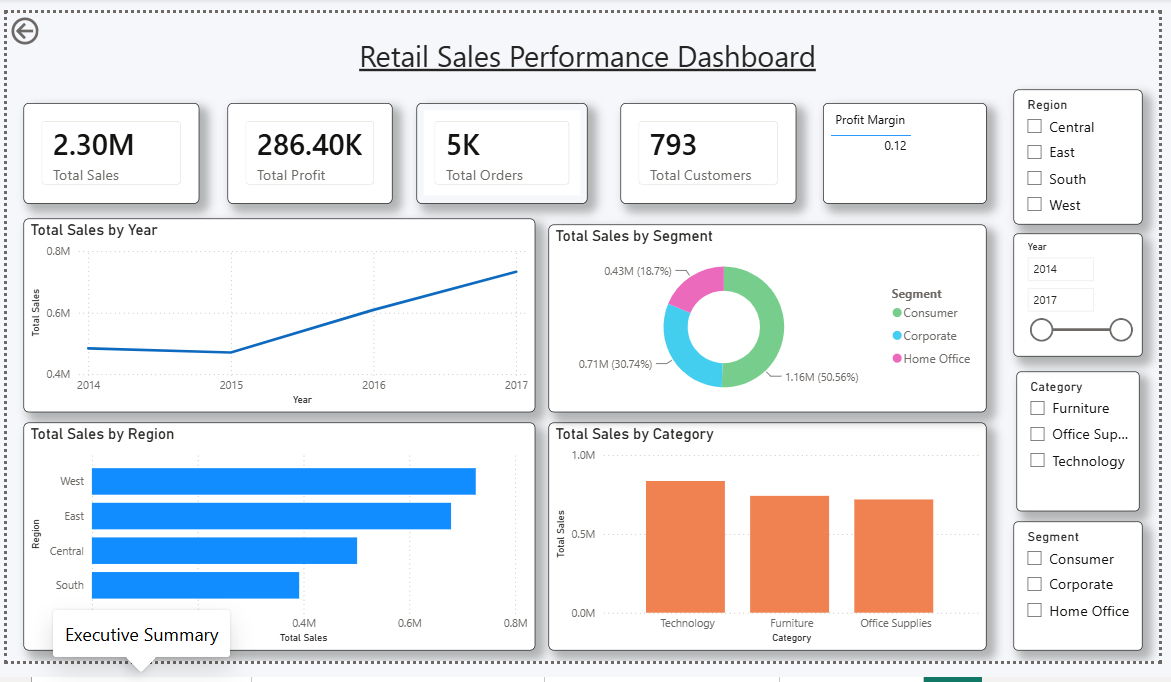

Layout of this report page (visuals, bound fields, positions):
{"tool":"powerbi","page":{"name":"Executive Summary","canvas":[1280,720],"ordinal":0},"visuals":[{"type":"cardVisual","fields":{"Data":["Orders.Total Sales"]},"box":[18.3,100,195,111.7],"z":0},{"type":"cardVisual","fields":{"Data":["Orders.Total Profit"]},"box":[245,100,183.3,111.7],"z":1000},{"type":"cardVisual","fields":{"Data":["Orders.Total Orders"]},"box":[455,100,190,111.7],"z":2000},{"type":"cardVisual","fields":{"Data":["Orders.Total Customers"]},"box":[681.7,100,195,111.7],"z":3000},{"type":"slicer","fields":{"Values":["Orders.Region"]},"box":[1118.3,85,143.3,150],"z":4000},{"type":"tableEx","fields":{"Values":["Orders.Profit Margin"]},"box":[906.7,100,181.7,111.7],"z":5000},{"type":"actionButton","box":[0,0,100,40],"z":6000},{"type":"lineChart","fields":{"Y":["Orders.Total Sales"],"Category":["Calender.Year"]},"box":[18.3,228.3,568.3,215],"z":7000},{"type":"clusteredBarChart","fields":{"Y":["Orders.Total Sales"],"Category":["Orders.Region"]},"box":[18.3,455,568.3,253.3],"z":8000},{"type":"clusteredColumnChart","fields":{"Y":["Orders.Total Sales"],"Category":["Orders.Category"]},"box":[601.7,455,486.7,253.3],"z":9000},{"type":"donutChart","fields":{"Category":["Orders.Segment"],"Y":["Orders.Total Sales"]},"box":[601.7,235,486.7,208.3],"z":10000},{"type":"slicer","fields":{"Values":["Orders.Category"]},"box":[1121.7,398.3,136.7,155],"z":11000},{"type":"slicer","fields":{"Values":["Orders.Segment"]},"box":[1118.3,565,143.3,143.3],"z":12000},{"type":"slicer","fields":{"Values":["Calender.Year"]},"box":[1118.3,245,143.3,136.7],"z":13000},{"type":"textbox","box":[35,20,1220,58.3],"z":14000}]}

Visuals, with their boxes on the page's 1280x720 design canvas (x1, y1, x2, y2). These are canvas units, not pixel positions in the 1171x682 screenshot, which may show the page scaled, cropped or inside an application window:
cardVisual - Orders.Total Sales: <box>18,100,213,212</box>
cardVisual - Orders.Total Profit: <box>245,100,428,212</box>
cardVisual - Orders.Total Orders: <box>455,100,645,212</box>
cardVisual - Orders.Total Customers: <box>682,100,877,212</box>
slicer - Orders.Region: <box>1118,85,1262,235</box>
tableEx - Orders.Profit Margin: <box>907,100,1088,212</box>
actionButton: <box>0,0,100,40</box>
lineChart - Orders.Total Sales x Calender.Year: <box>18,228,587,443</box>
clusteredBarChart - Orders.Total Sales x Orders.Region: <box>18,455,587,708</box>
clusteredColumnChart - Orders.Total Sales x Orders.Category: <box>602,455,1088,708</box>
donutChart - Orders.Segment x Orders.Total Sales: <box>602,235,1088,443</box>
slicer - Orders.Category: <box>1122,398,1258,553</box>
slicer - Orders.Segment: <box>1118,565,1262,708</box>
slicer - Calender.Year: <box>1118,245,1262,382</box>
textbox: <box>35,20,1255,78</box>
